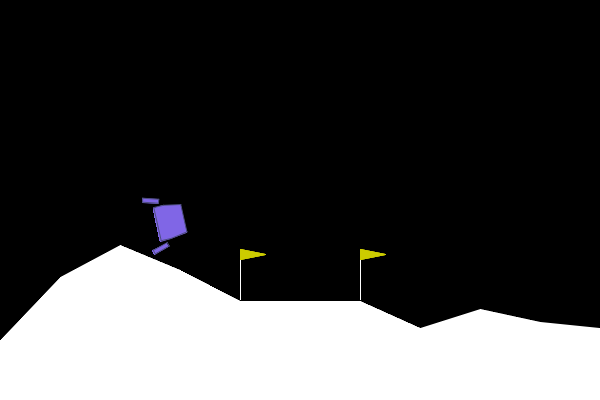lander: (140, 189, 192, 256)
